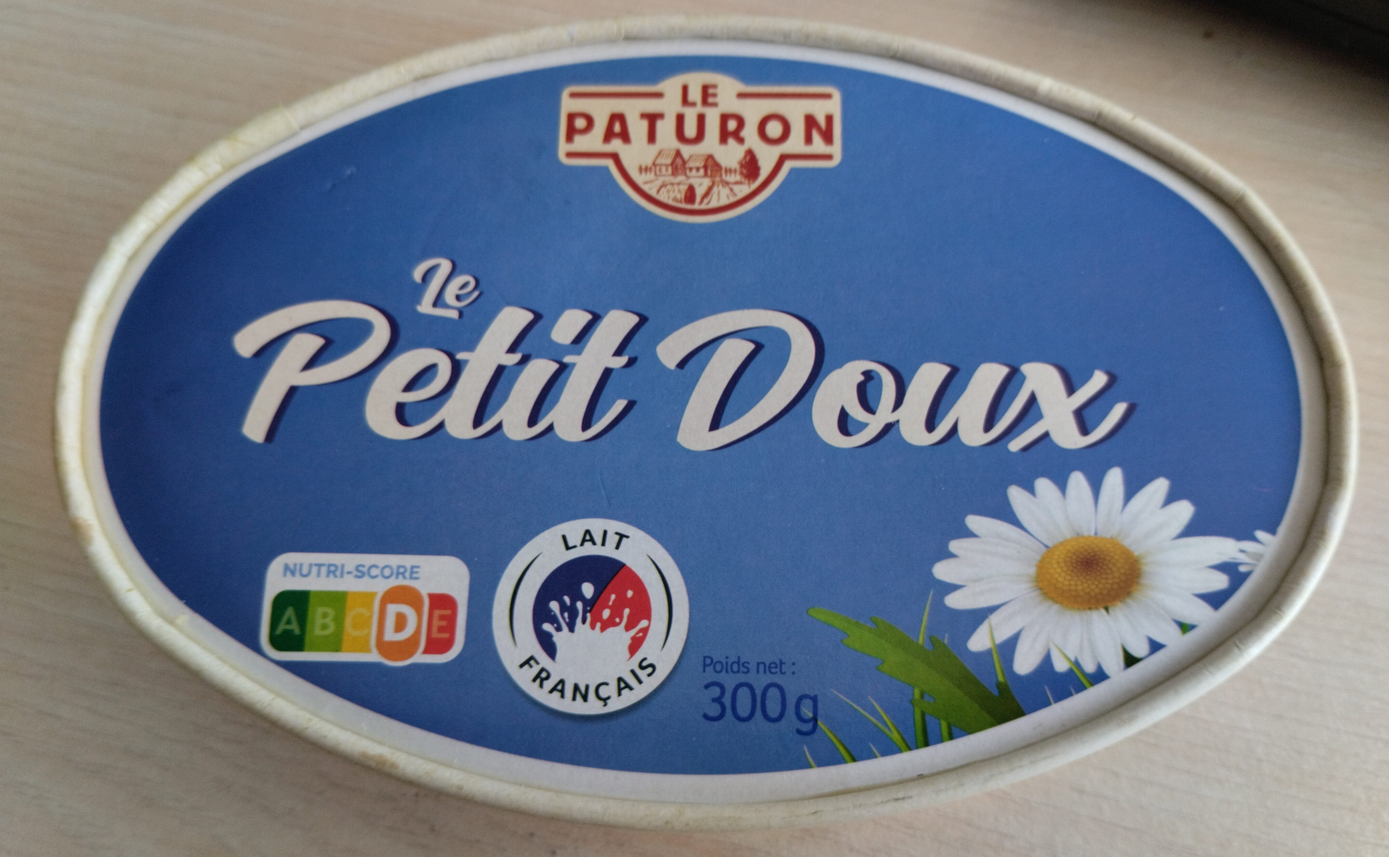Le petit doux: (69, 43, 1320, 814)
